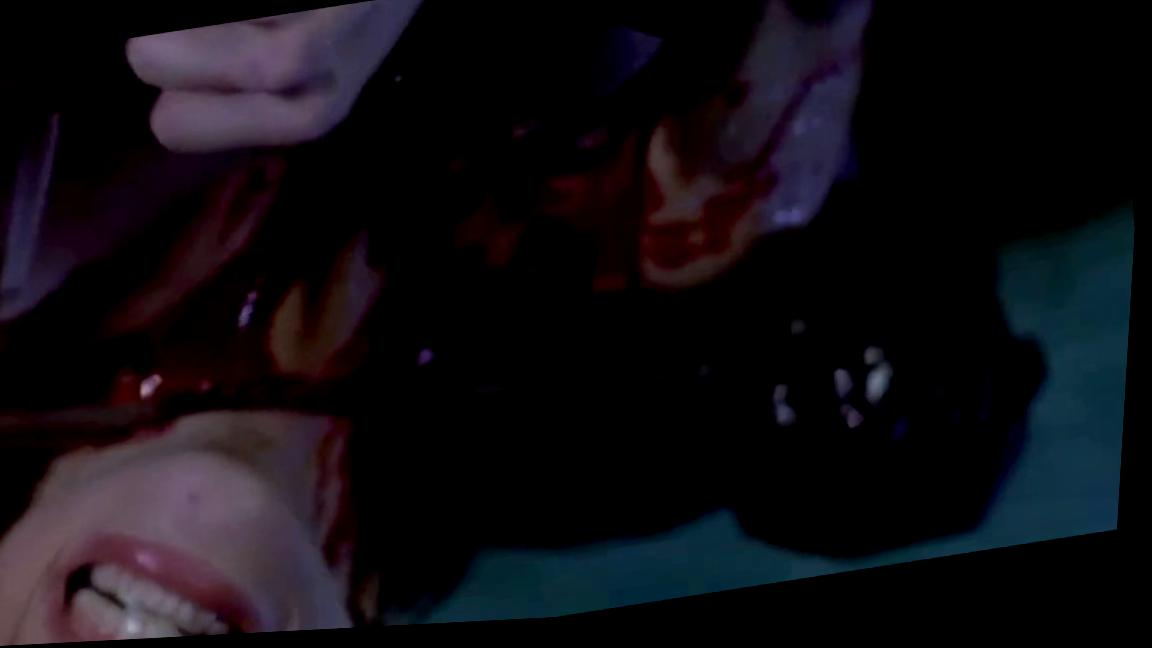Fire: (0, 0, 1135, 632)
